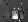person: (13, 9, 19, 19), (20, 7, 25, 19)
